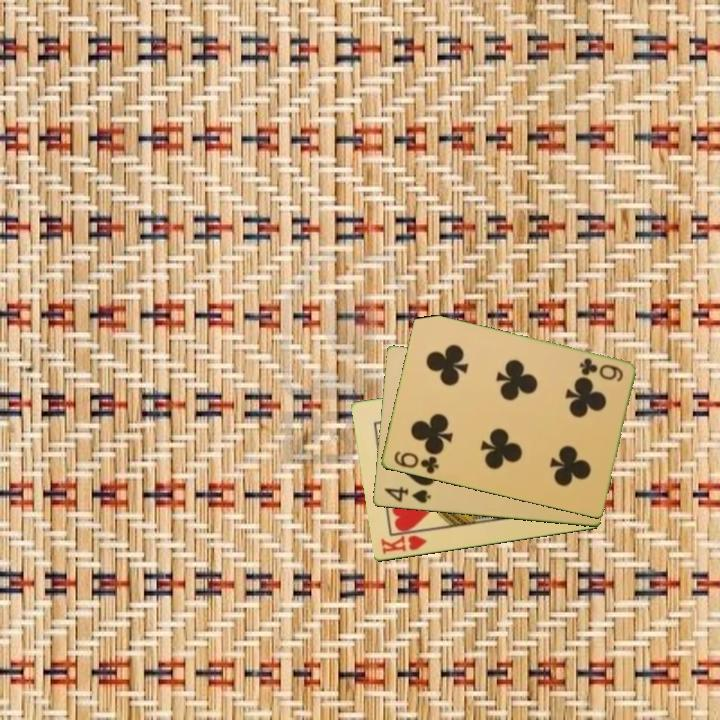4s: (380, 484, 433, 506)
6c: (575, 354, 626, 385), (390, 448, 441, 477)
Kh: (377, 527, 432, 557)
